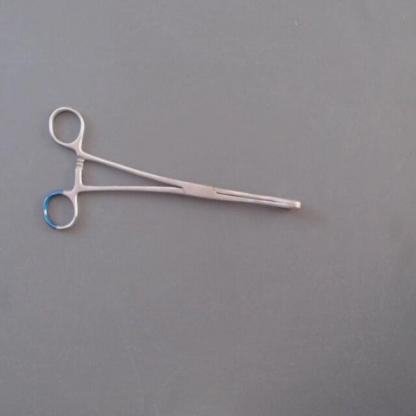Sponge Forceps: (35, 100, 307, 240)
